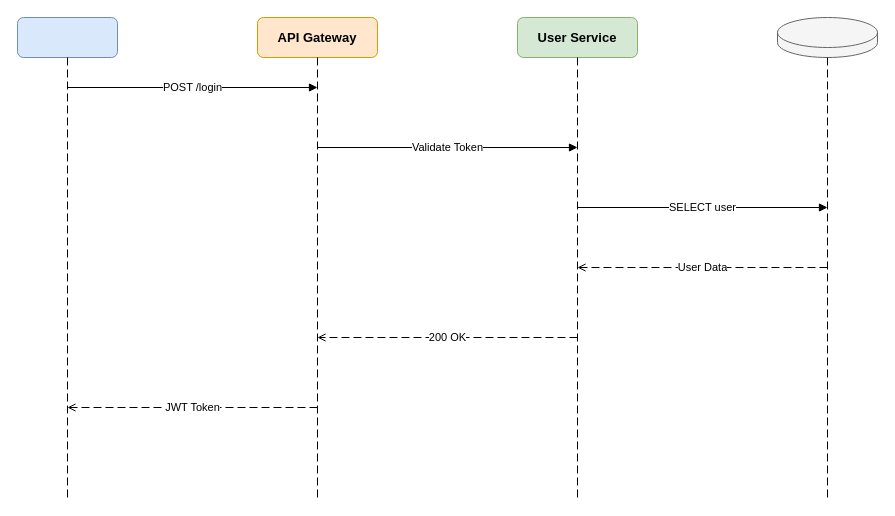
Some shapes in this 895 by 516 pixel diagram are drawn without their labels. The box of each missing label's shape, as (x1, y1, x2, y2) in pixels:
Client: (16, 16, 118, 58)
Database: (776, 16, 878, 58)
